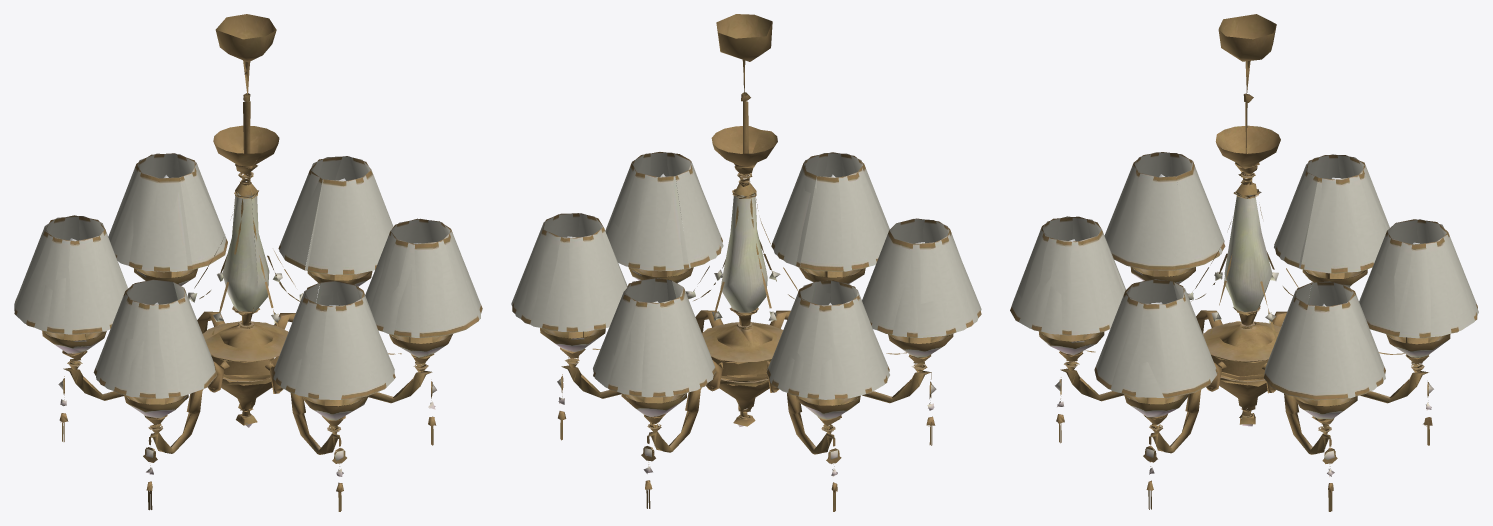
File: Chandelier_01.gltf
3 renders of one model, left to right at view 1: azimuth 30°, elevation 25°; view 2: azimuth 150°, elevation 25°; view 3: azimuth 270°, elevation 25°, orthographic.
Parts seen in each view (by area): view 1: Chandelier_01; view 2: Chandelier_01; view 3: Chandelier_01.
Boxes of the visible parts, x1=… form: Chandelier_01: x1=14, y1=14, x2=482, y2=511; Chandelier_01: x1=511, y1=14, x2=981, y2=511; Chandelier_01: x1=1010, y1=14, x2=1478, y2=511.
Bounding box in the file's own units: 0.7469 × 0.7983 × 0.8161.
Materials: 1 (1 with a texture image).
